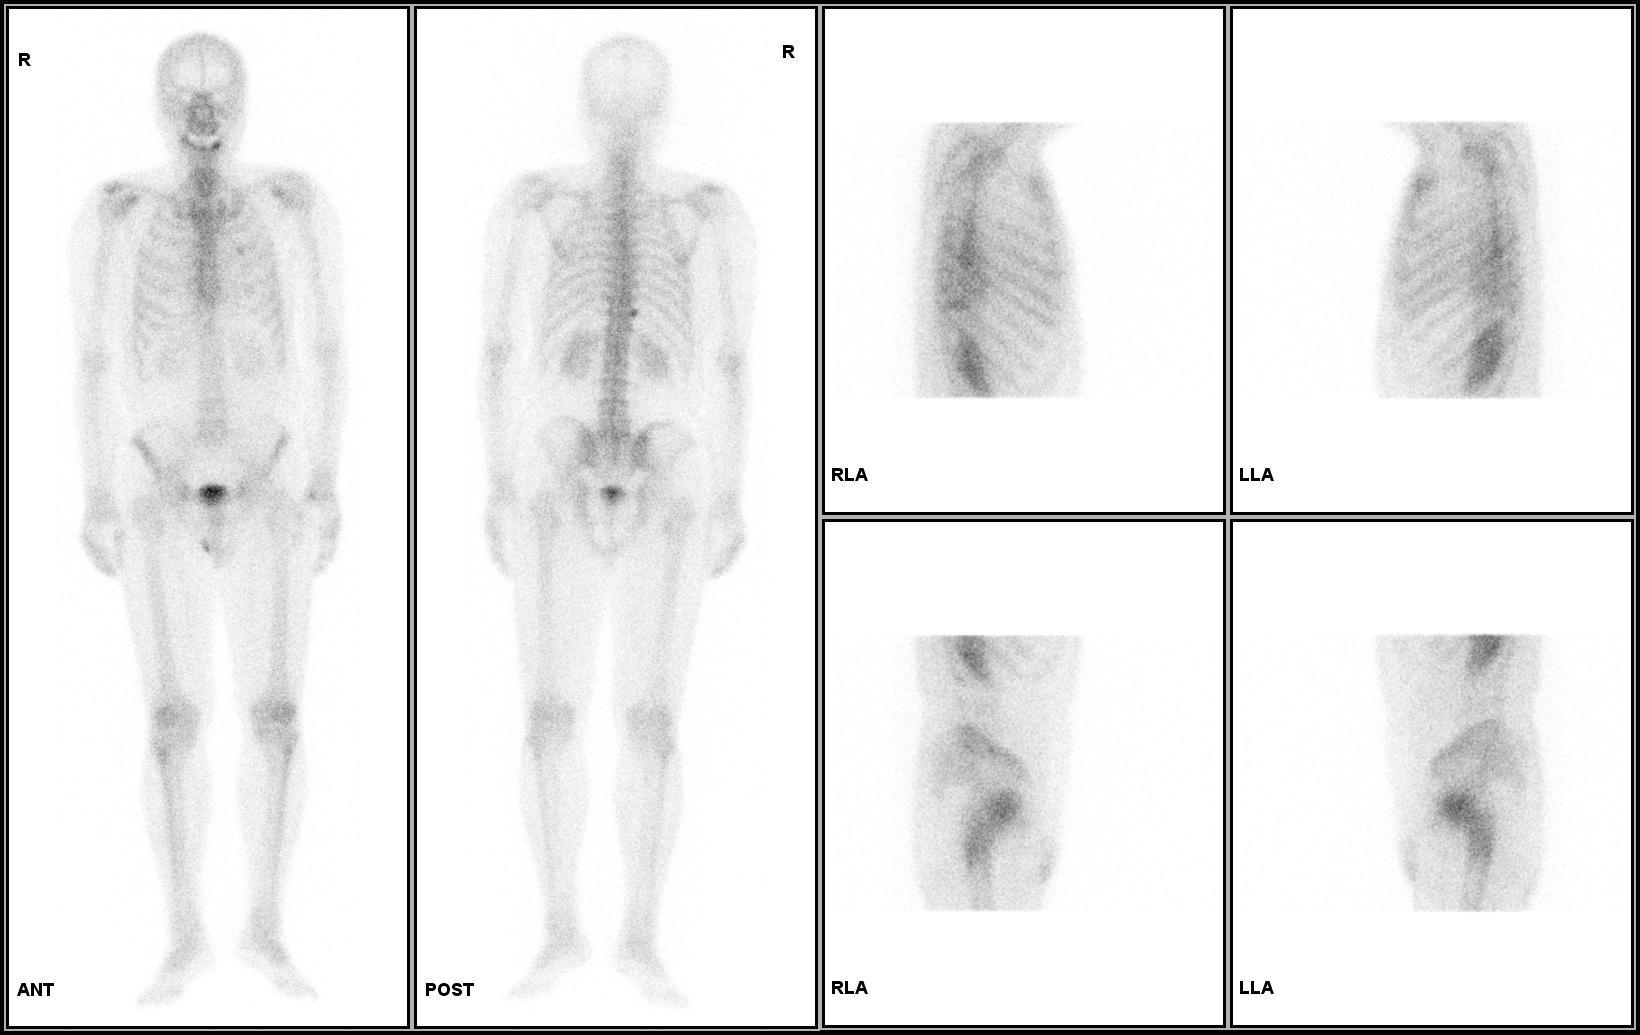person: (8, 8, 818, 1029)
